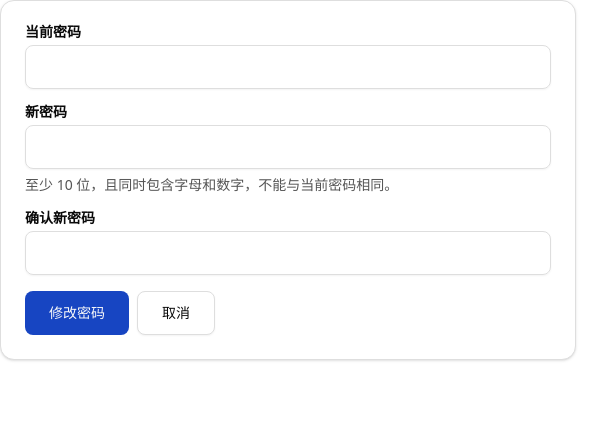
Test: ChangePasswordForm：成功 › 成功后再次提交失败：成功提示消失
This screenshot has width=593, height=440.
Type "Old-Secret-pass1" into the password field labelled "当前密码" at (288, 67), box [25,45,551,89]
Type "New-Secret-pass2" into the password field labelled "新密码" at (288, 147), box [25,125,551,169]
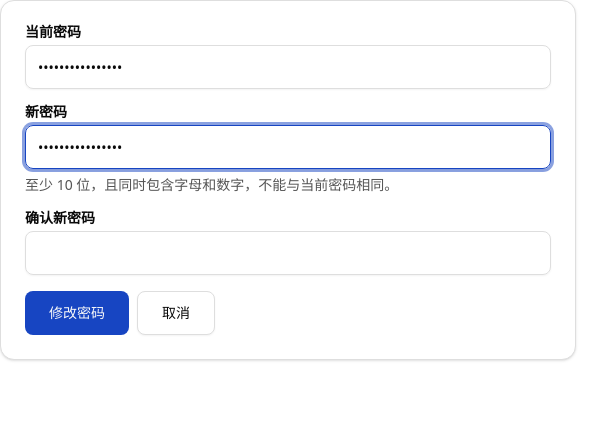
Type "New-Secret-pass2" into the password field labelled "确认新密码" at (288, 253), box [25,231,551,275]
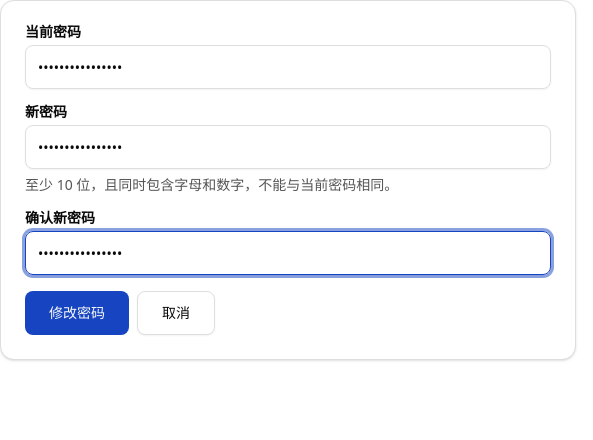
Click the button "修改密码" at (77, 313), box [25,291,129,335]
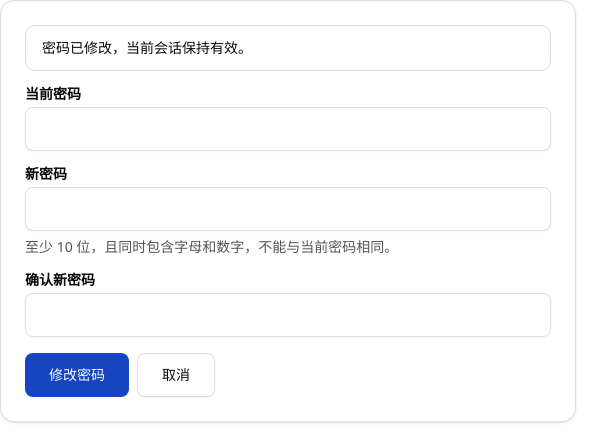
expect the message "密码已修改，当前会话保持有效。" is shown: met, box [25,25,551,71]
Type "Old-Secret-pass1" into the password field labelled "当前密码" at (288, 129), box [25,107,551,151]
Type "New-Secret-pass2" into the password field labelled "新密码" at (288, 209), box [25,187,551,231]
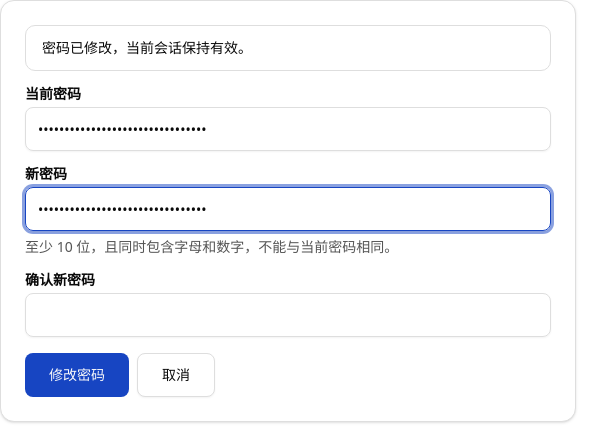
Type "New-Secret-pass2" into the password field labelled "确认新密码" at (288, 315), box [25,293,551,337]
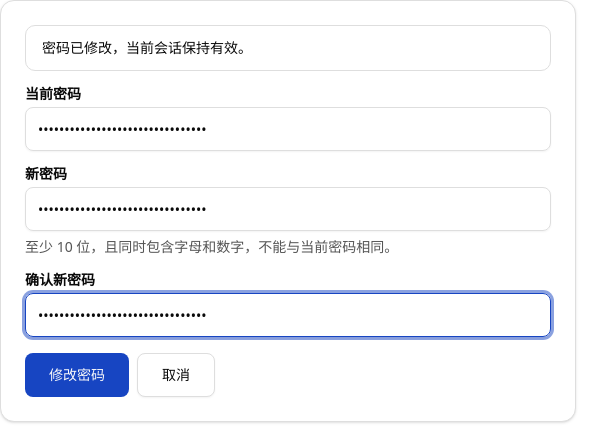
Click the button "修改密码" at (77, 375), box [25,353,129,397]
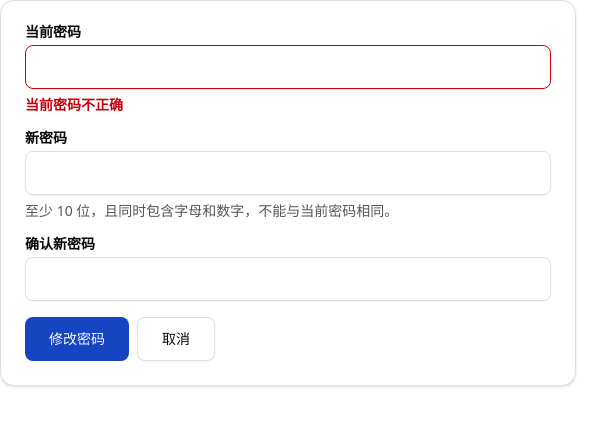
expect the message "密码已修改，当前会话保持有效。" is gone: met
